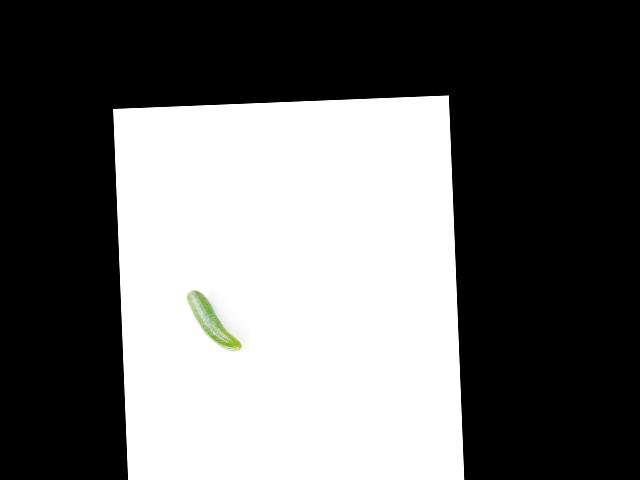cucumber: (186, 288, 242, 352)
